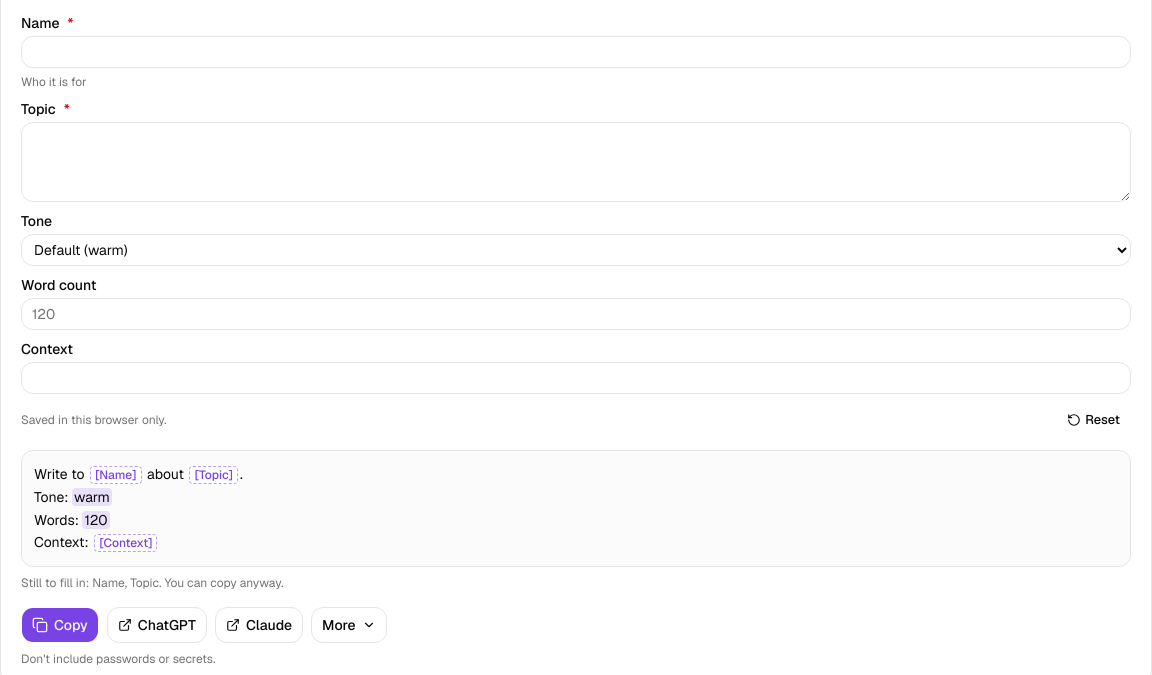
UsePanel › shows the feedback bar after a copy and sends worked without any variable values
This screenshot has width=1152, height=675.
Step 1. Type "SecretName" into the field labelled "Name *" → (576, 52), box [21, 36, 1131, 68]
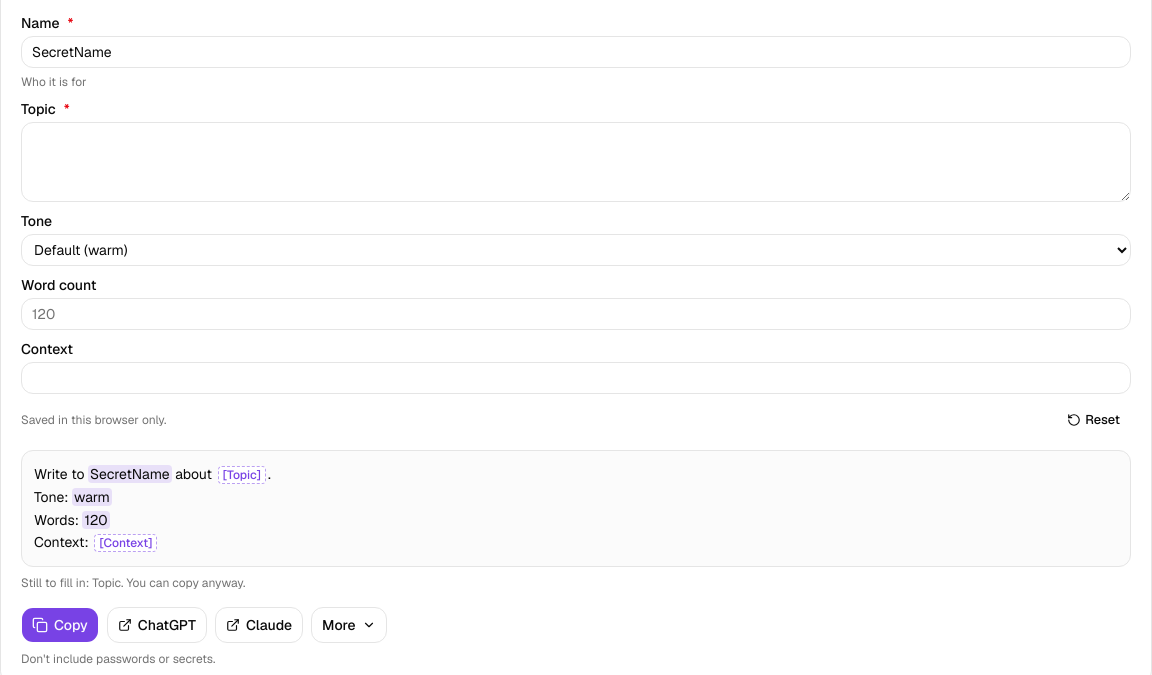
Step 2. Click the button "Copy" → (60, 625), box [21, 607, 99, 643]
(page scrolled)
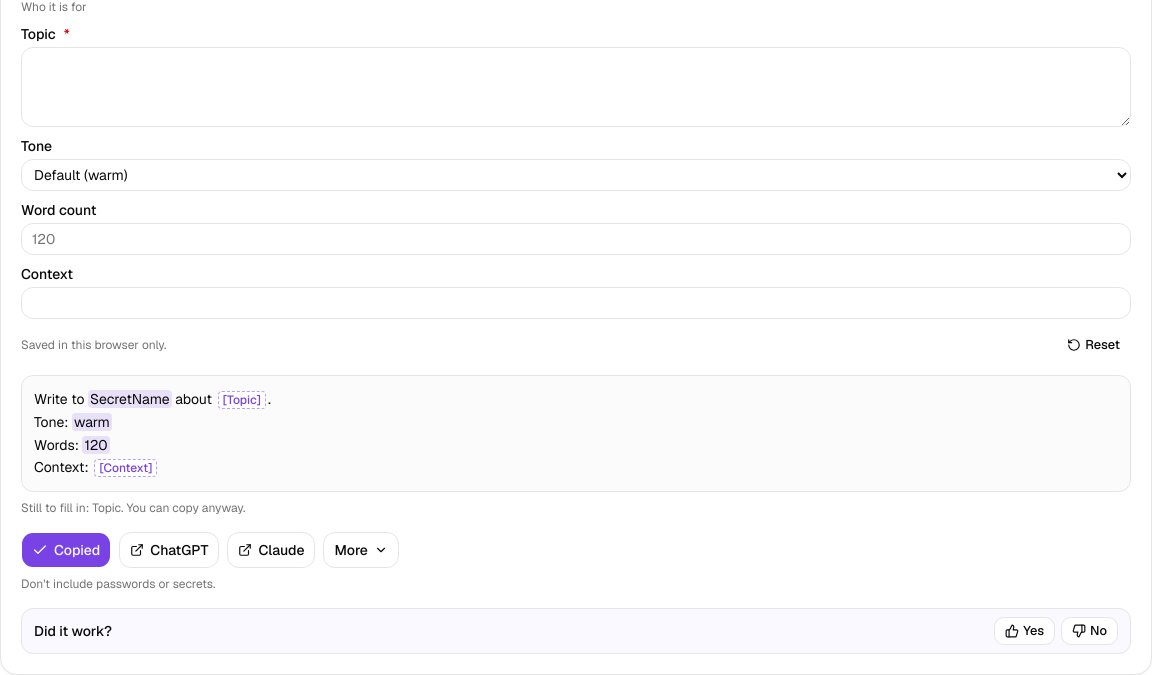
Step 3. Click the button "Yes" → (1025, 631), box [994, 617, 1055, 645]
(page scrolled)
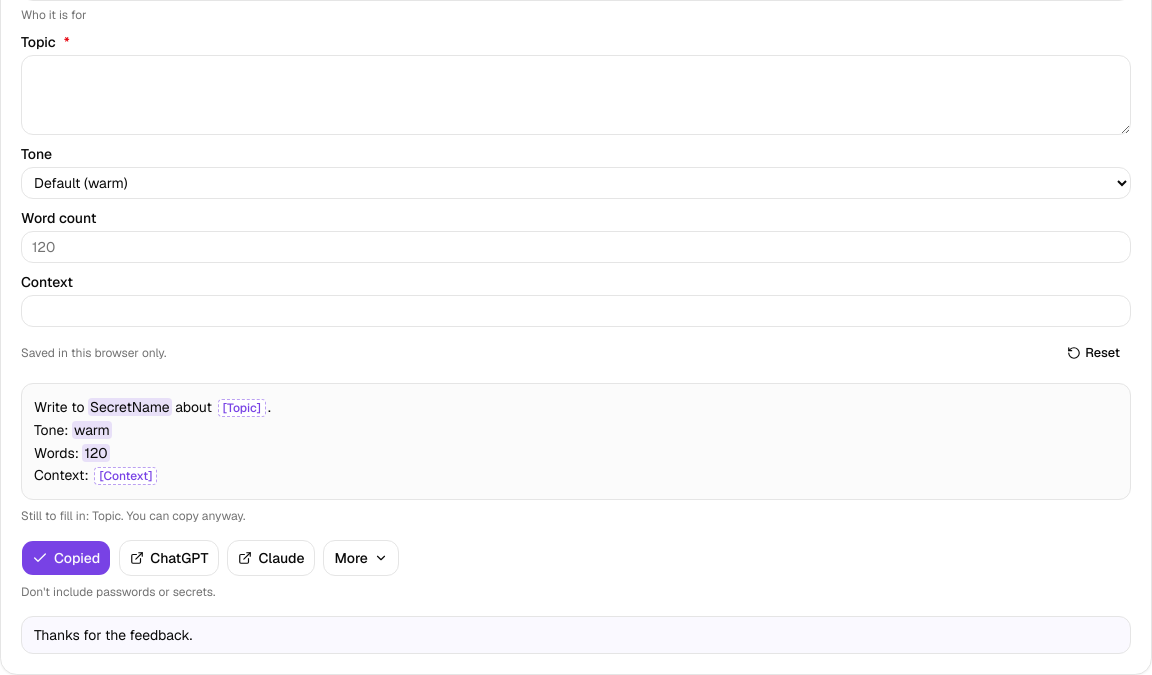
Now the text "Thanks for the feedback." is shown, box [34, 625, 192, 645]
